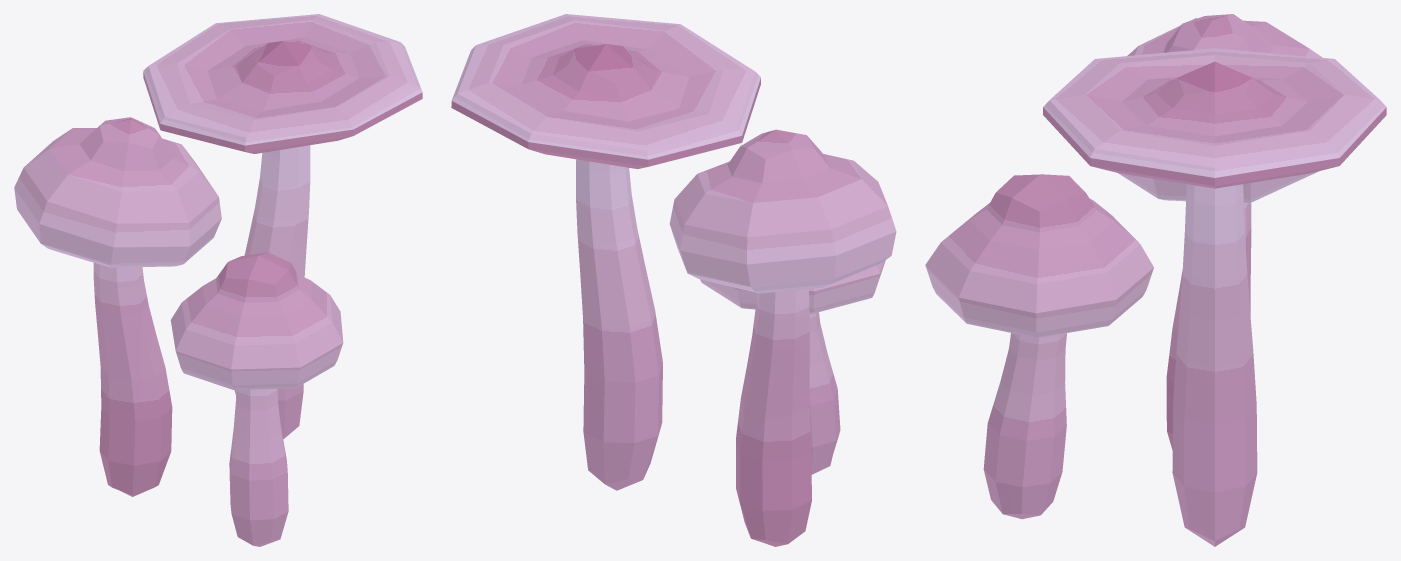
Rendered from RosyBonnet_Bunch.glb.
3 views of the same model, side by side, from view 1: azimuth 30°, elevation 25°; view 2: azimuth 150°, elevation 25°; view 3: azimuth 270°, elevation 25° (orthographic). The views are drawn at different scales.
Visible parts, largest first — view 1: Cube.002; view 2: Cube.002; view 3: Cube.002.
Part boxes in pixels (bbox=[...]): Cube.002: bbox=[14, 14, 422, 546]; Cube.002: bbox=[451, 14, 896, 546]; Cube.002: bbox=[925, 14, 1386, 546].
Size of the model in its own units: 8.28 by 8.93 by 7.2.
Materials: 1 (1 with a texture image).
